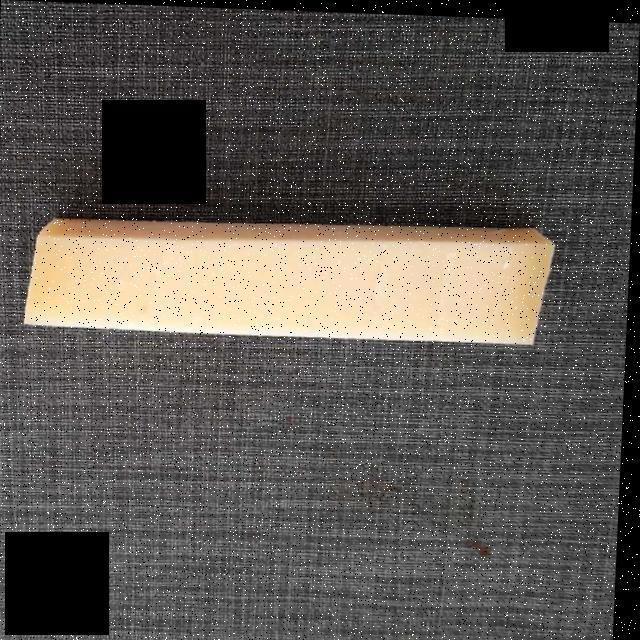butter: (53, 215, 542, 332)
